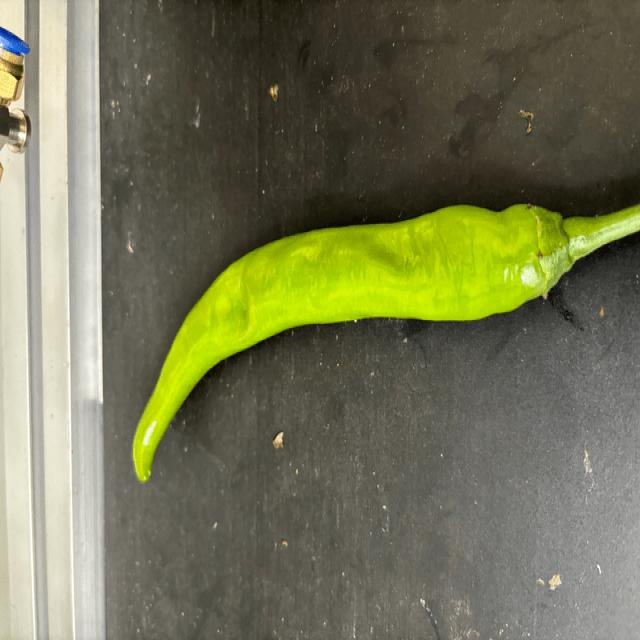chili: (129, 201, 576, 484)
